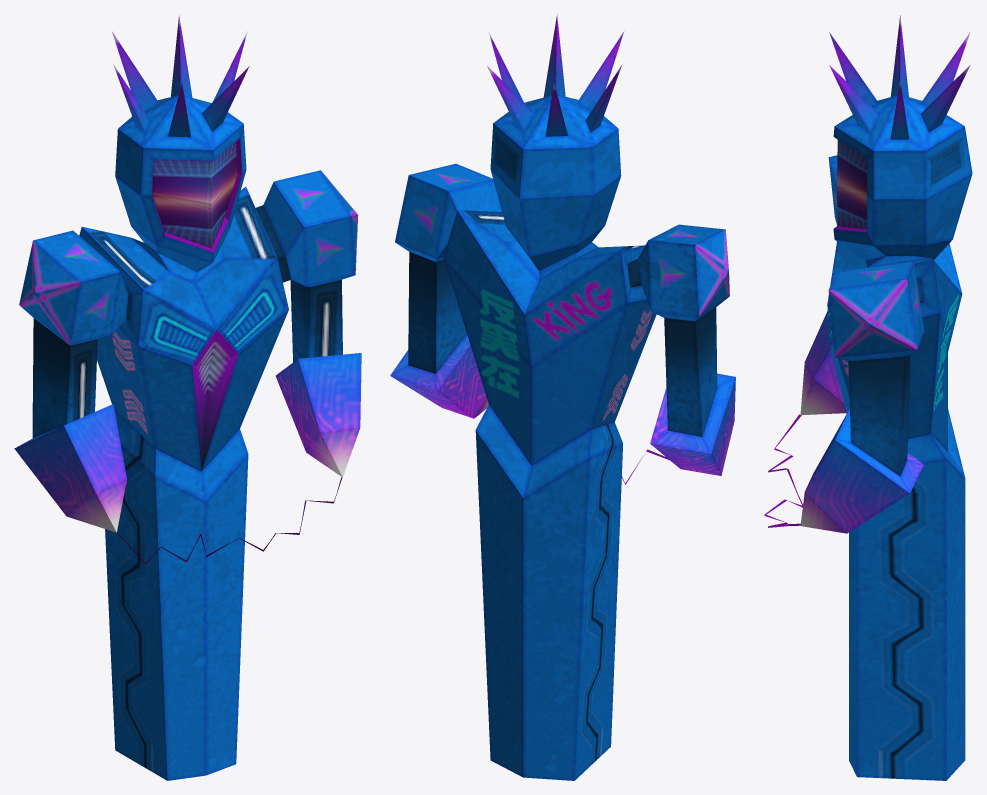
Rendered from King.glb.
3 views of the same model, side by side, from view 1: azimuth 30°, elevation 25°; view 2: azimuth 150°, elevation 25°; view 3: azimuth 270°, elevation 25° (orthographic).
Visible parts, largest first — view 1: King; view 2: King; view 3: King.
Part boxes in pixels (box(x1,y1,x2,y2)): King: box(14, 14, 361, 780); King: box(390, 14, 735, 780); King: box(764, 15, 972, 780).
Size of what is drawn, in the model's own units: 0.9837 by 2.06 by 0.5436.
Materials: 2 (1 with a texture image).
